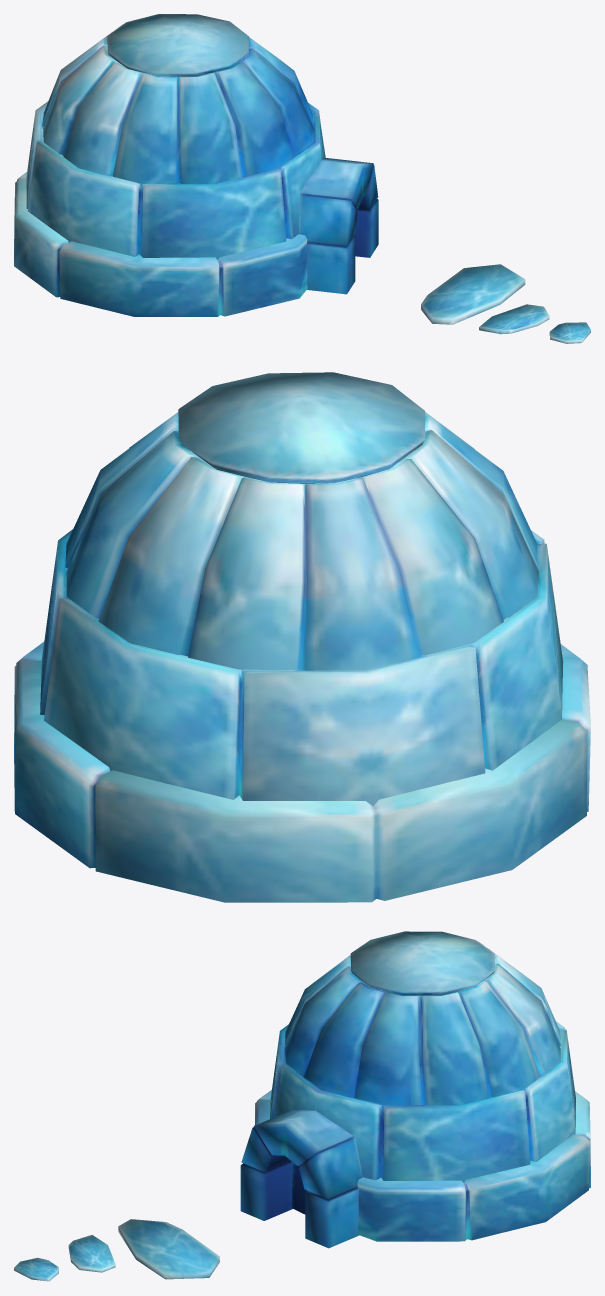
The model's file is sence2_bw.FBX.
The picture shows the model from 3 angles, top to bottom: view 1: azimuth 30°, elevation 25°; view 2: azimuth 150°, elevation 25°; view 3: azimuth 270°, elevation 25°; orthographic projection. The views are drawn at different scales.
Visible parts, largest first — view 1: bw; view 2: bw; view 3: bw.
Part boxes in pixels (<box>): bw: <box>14,14,590,343</box>; bw: <box>14,372,590,902</box>; bw: <box>14,931,590,1281</box>.
Bounding box in the file's own units: 78.21 × 44.78 × 104.
